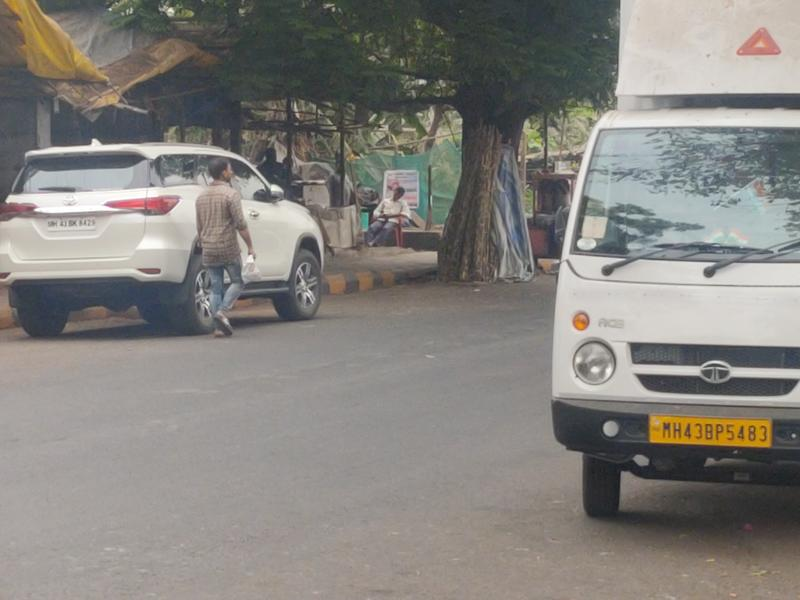license_plate: (637, 409, 776, 458), (39, 213, 104, 238)
